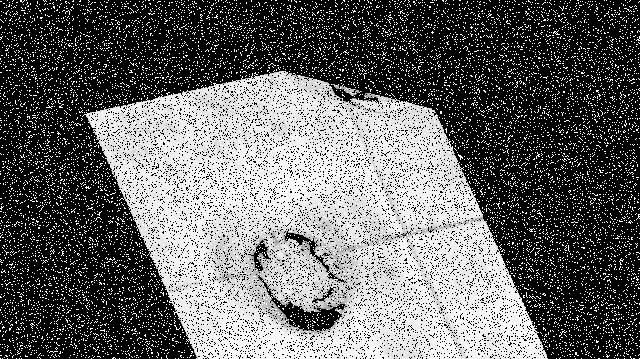pot: (242, 224, 352, 337)
